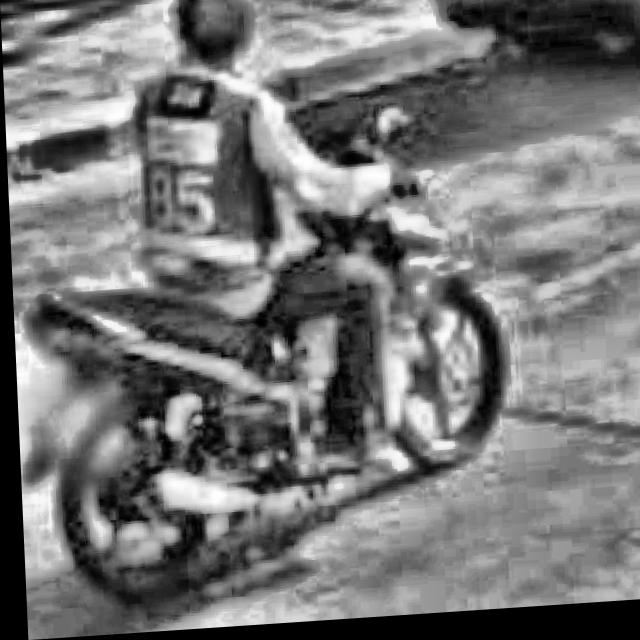motorcycle: (22, 101, 519, 610)
